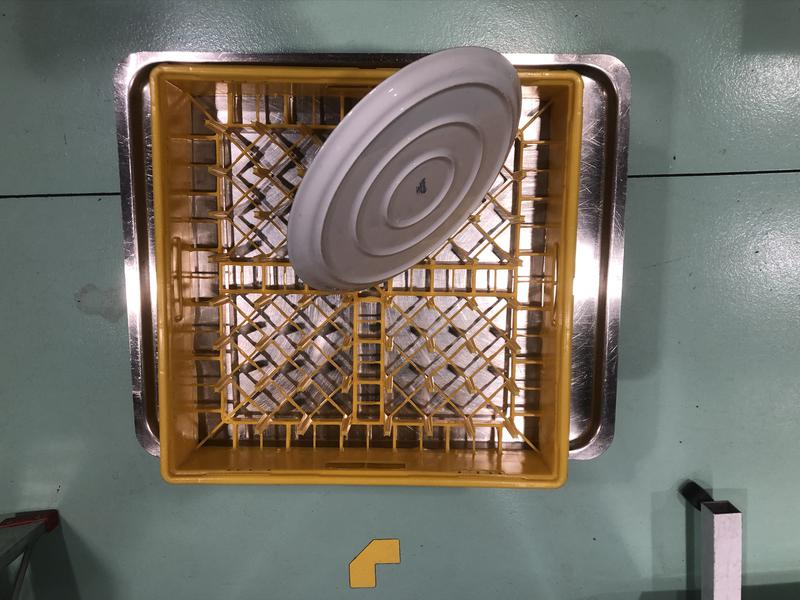Inclined_dish: (285, 47, 521, 292)
